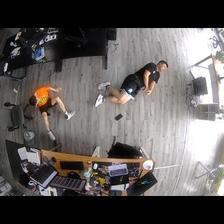fall: (90, 60, 170, 106), (29, 86, 77, 138)
